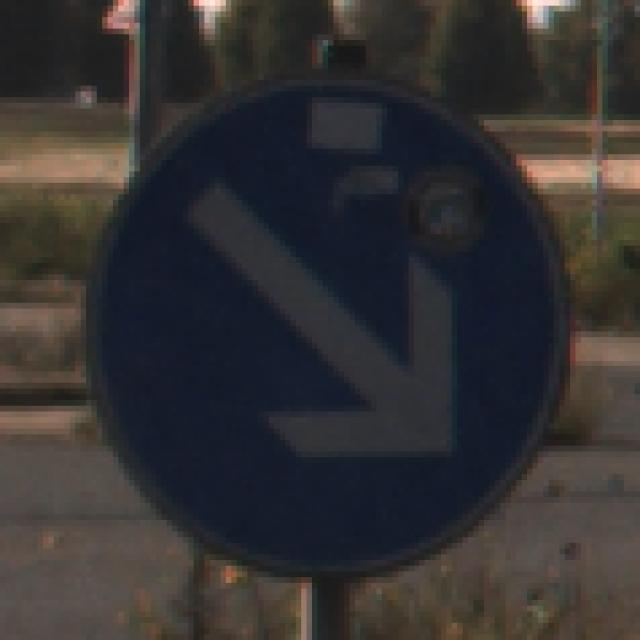compulsary keep right: (86, 74, 574, 582)
